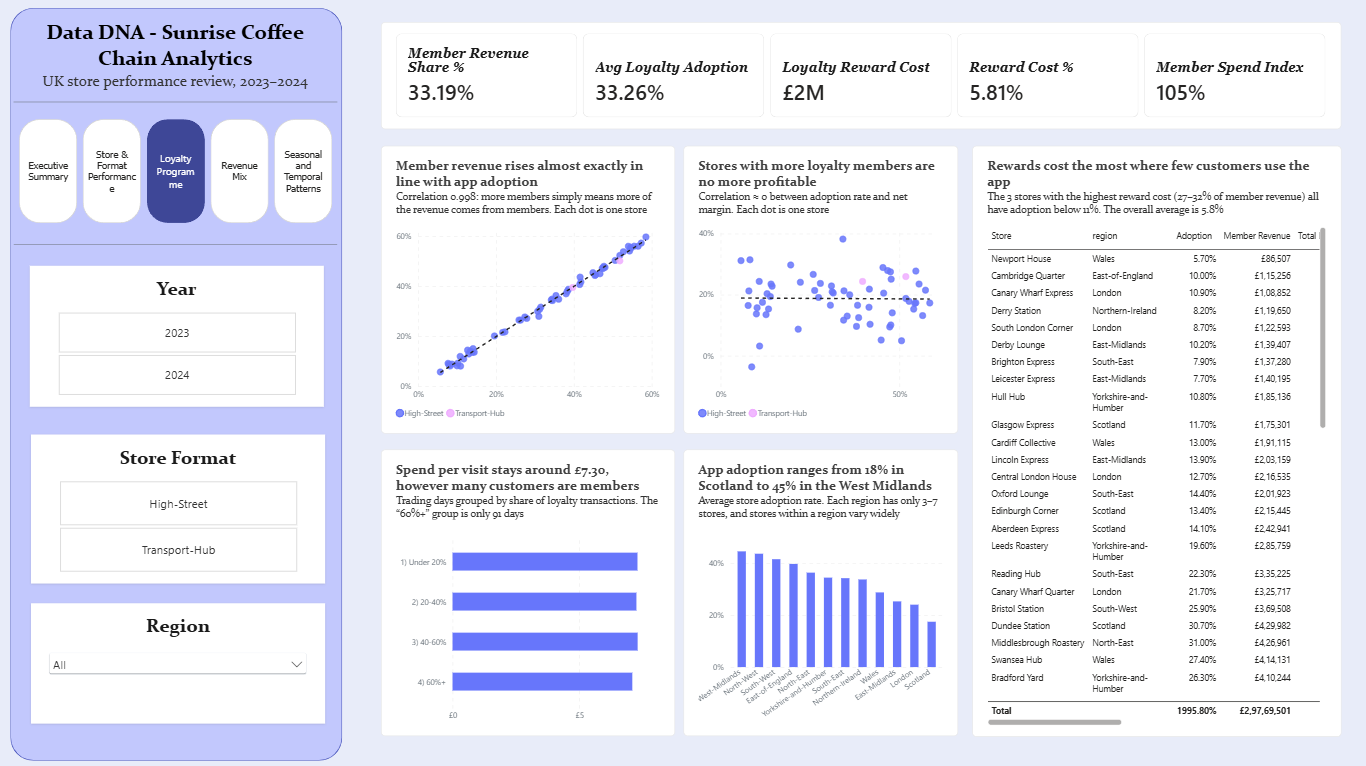

This screenshot's page, from the dashboard's own definition file:
{"tool":"powerbi","page":{"name":"Loyalty Programme","canvas":[1920,1080],"ordinal":2},"visuals":[{"type":"shape","box":[0,0,503,1080.6],"z":0},{"type":"cardVisual","fields":{"Data":["_Measures.Member Revenue Share %","_Measures.Avg Loyalty Adoption Rate","_Measures.Total Loyalty Redemption Cost","_Measures.Redemption Cost % of Member Revenue","_Measures.Member Spend Index"]},"box":[536.5,34.9,1339.7,149.2],"z":1000},{"type":"scatterChart","title":"Member revenue rises almost exactly in line with app adoption","fields":{"Category":["dim_store.store_name"],"Series":["dim_store.store_format"],"X":["_Measures.Avg Loyalty Adoption Rate"],"Y":["_Measures.Member Revenue Share %"]},"box":[536.7,208.3,410,401.7],"z":2000},{"type":"scatterChart","title":"Stores with more loyalty members are no more profitable","fields":{"Category":["dim_store.store_name"],"Series":["dim_store.store_format"],"X":["_Measures.Avg Loyalty Adoption Rate"],"Y":["_Measures.Net Profit Margin %"]},"box":[960,208.3,383.3,401.7],"z":3000},{"type":"clusteredBarChart","title":"Spend per visit stays around £7.30, however many customers are members","fields":{"Category":["fact_daily_sales.Loyalty Share Band"],"Y":["_Measures.Avg Transaction Value"]},"box":[536.7,631.7,410,400],"z":4000},{"type":"tableEx","title":"Rewards cost the most where few customers use the app","fields":{"Values":["dim_store.Store","dim_store.region","Sum(dim_store.loyalty_adoption_rate)","_Measures.Member Revenue","_Measures.Total Loyalty Redemption Cost","_Measures.Loyalty Net Value","_Measures.Member Gross Profit after Redemption","_Measures.Redemption Cost % of Member Revenue"]},"box":[1361.7,208.3,515,825],"z":5000},{"type":"clusteredColumnChart","title":"App adoption ranges from 18% in Scotland to 45% in the West Midlands","fields":{"Category":["dim_store.region"],"Y":["_Measures.Avg Loyalty Adoption Rate"]},"box":[960,631.7,383.3,400],"z":6000},{"type":"slicer","title":"Year","fields":{"Values":["dim_date.year"]},"box":[46.7,375,410,196.7],"z":7000},{"type":"slicer","title":"Store Format","fields":{"Values":["dim_store.store_format"]},"box":[48.3,610,410,208.3],"z":8000},{"type":"slicer","title":"Region","fields":{"Values":["dim_store.region"]},"box":[48.3,846.7,410,168.3],"z":9000},{"type":"textbox","title":"Data DNA - Sunrise Coffee Chain Analytics","box":[25,15,451.7,153.3],"z":10000},{"type":"textbox","box":[25,330,451.7,33.3],"z":11000},{"type":"pageNavigator","box":[11.7,155,480,175],"z":12000}]}

Visuals, with their boxes in screenshot pixels (x1, y1, x2, y2), scaled from the page's 1920x1080 canvas onto the 1366x766 screenshot:
shape: x1=0, y1=0, x2=358, y2=765
cardVisual - _Measures.Member Revenue Share % x _Measures.Avg Loyalty Adoption Rate: x1=382, y1=25, x2=1335, y2=131
"Member revenue rises almost exactly in line with app adoption" scatterChart: x1=382, y1=148, x2=674, y2=433
"Stores with more loyalty members are no more profitable" scatterChart: x1=683, y1=148, x2=956, y2=433
"Spend per visit stays around £7.30, however many customers are members" clusteredBarChart: x1=382, y1=448, x2=674, y2=732
"Rewards cost the most where few customers use the app" tableEx: x1=969, y1=148, x2=1335, y2=733
"App adoption ranges from 18% in Scotland to 45% in the West Midlands" clusteredColumnChart: x1=683, y1=448, x2=956, y2=732
"Year" slicer: x1=33, y1=266, x2=325, y2=405
"Store Format" slicer: x1=34, y1=433, x2=326, y2=580
"Region" slicer: x1=34, y1=601, x2=326, y2=720
"Data DNA - Sunrise Coffee Chain Analytics" textbox: x1=18, y1=11, x2=339, y2=119
textbox: x1=18, y1=234, x2=339, y2=258
pageNavigator: x1=8, y1=110, x2=350, y2=234
